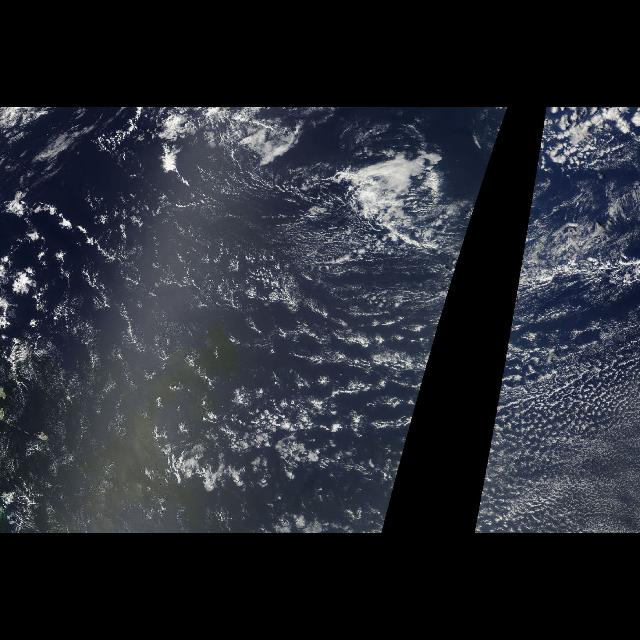Gravel: (165, 342, 408, 484)
Sugar: (474, 274, 640, 532), (217, 293, 451, 473), (40, 378, 138, 532)
